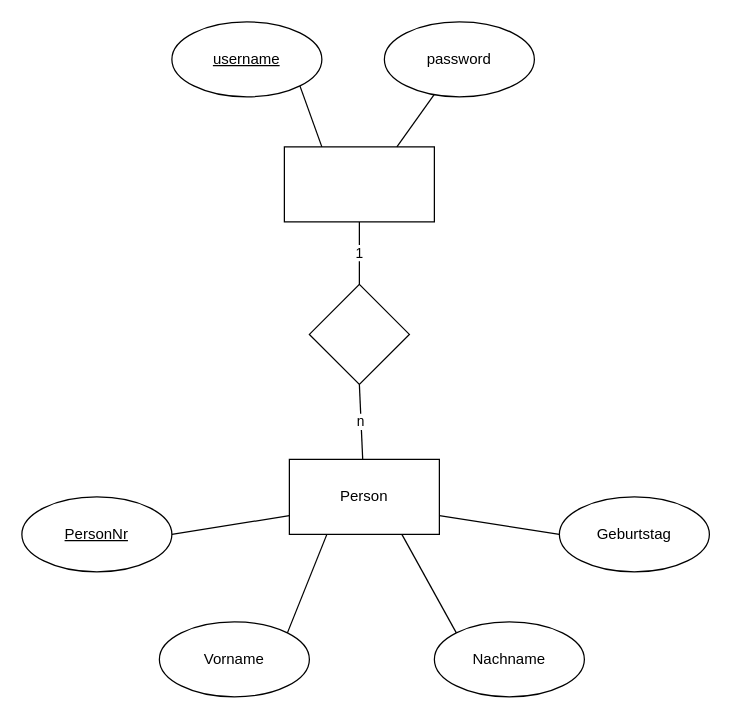
The diagram is 731 pixels wide and 719 high, and some of its shapes have lost their labels. The centre of each missing label's shape, as x and y in pixels:
Benutzer: the point at 358,184
kennt: the point at 358,333
